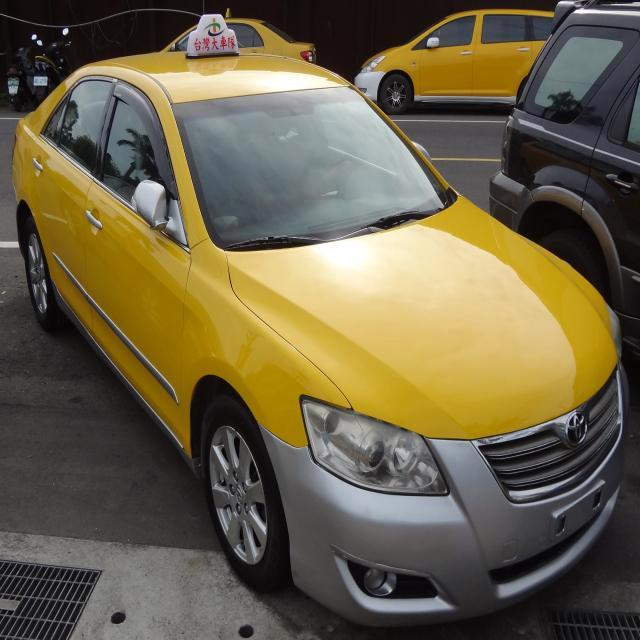taxi: (16, 13, 633, 638), (349, 5, 569, 112)
